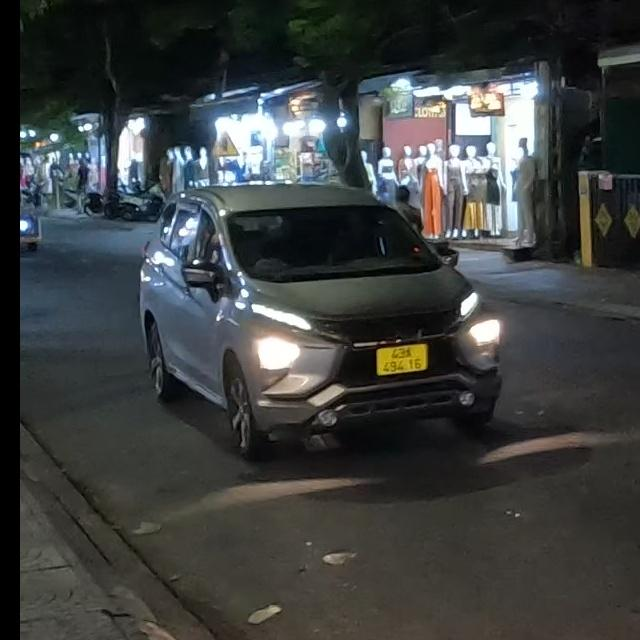license-plate: (374, 341, 430, 378)
